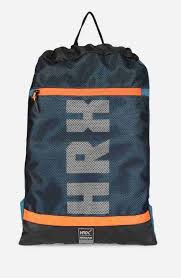backpack: (18, 11, 157, 245)
